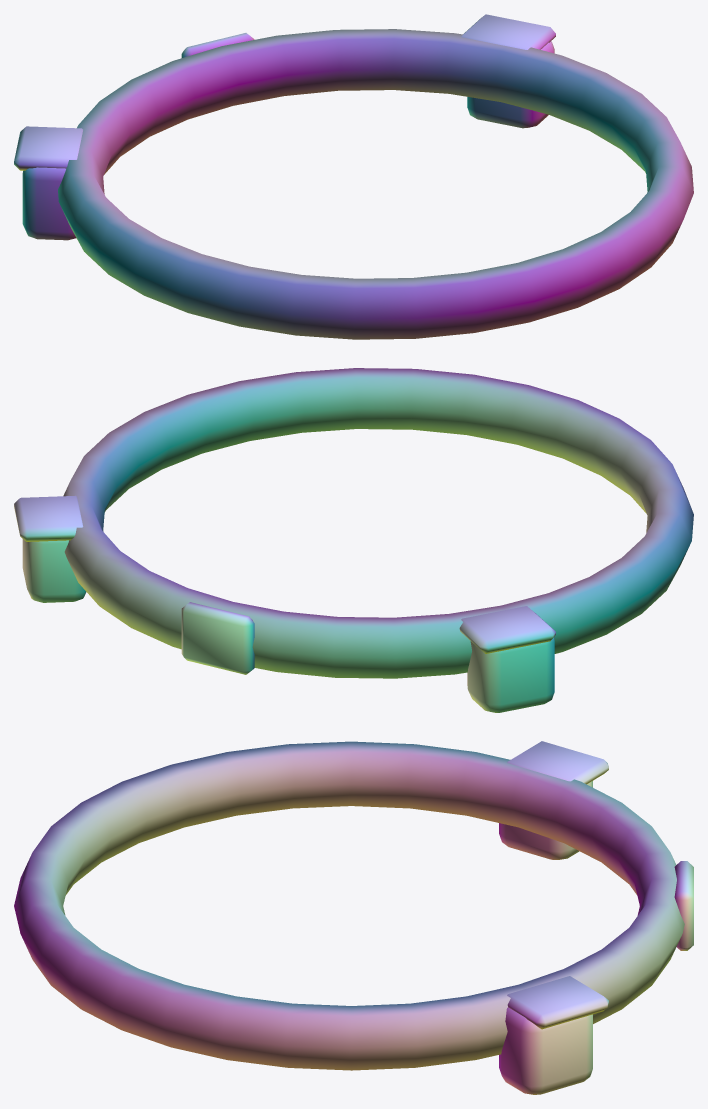
Rendered from acc_belt.glb.
3 renders of one model, top to bottom at view 1: azimuth 30°, elevation 25°; view 2: azimuth 150°, elevation 25°; view 3: azimuth 270°, elevation 25°, orthographic. The views are drawn at different scales.
Parts seen in each view (by area): view 1: belt; view 2: belt; view 3: belt.
Boxes of the visible parts, x1,y1,x2,y2 form: belt: (14,14,693,339); belt: (14,368,693,712); belt: (14,741,693,1094).
Size of the model in its own units: 0.2058 by 0.03 by 0.2073.
